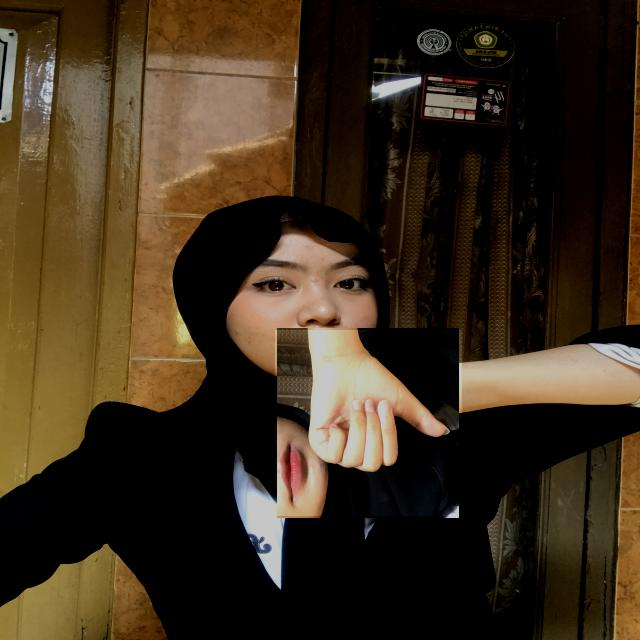sedih: (275, 330, 462, 516)
